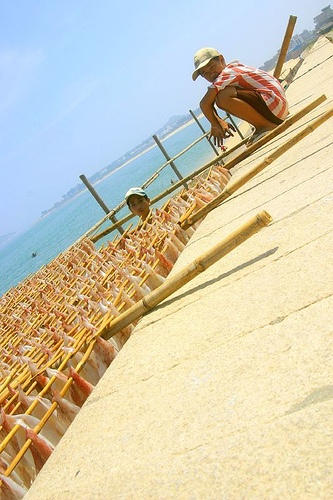head: (192, 48, 227, 85), (123, 186, 151, 223)
person: (191, 49, 288, 145), (122, 187, 177, 262)
